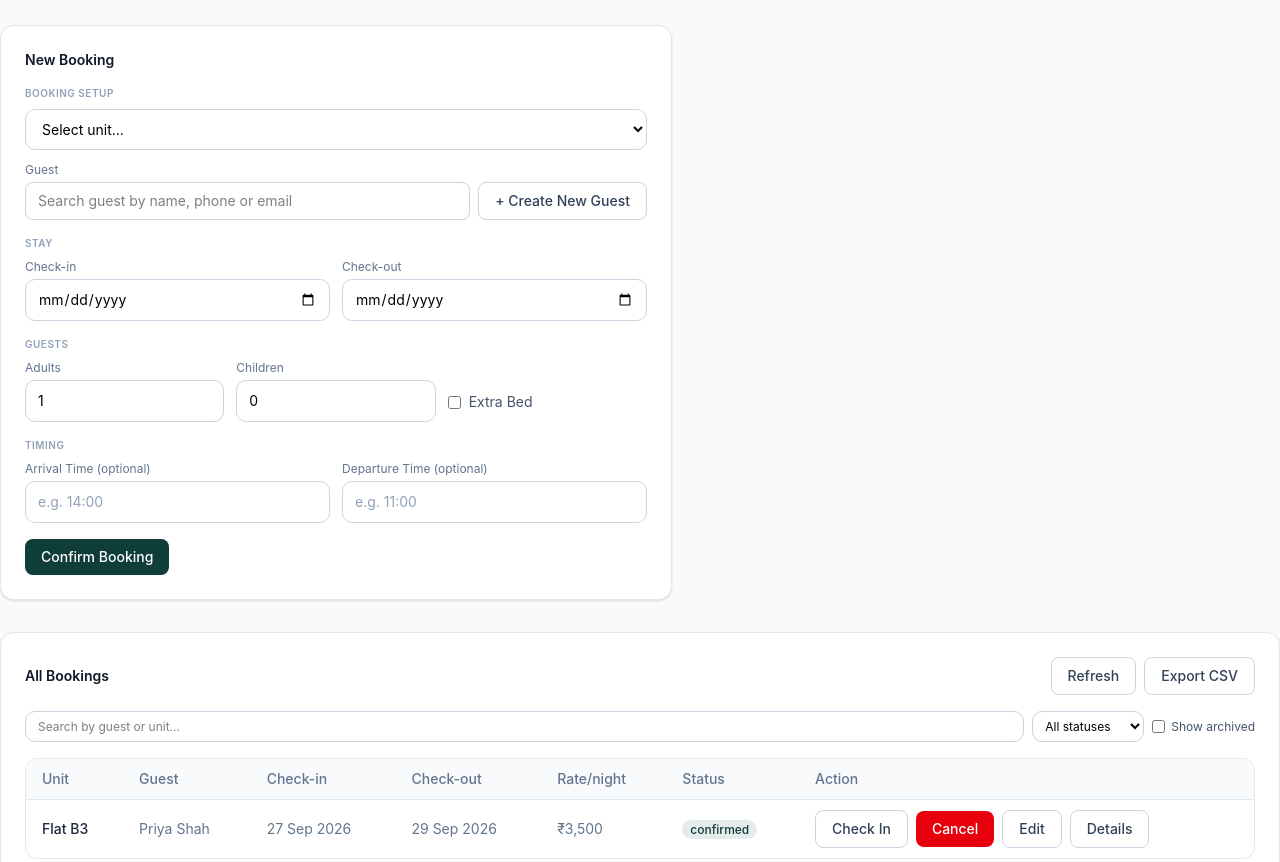
Test: BookingsPage — UI polish › shows a real Payment Summary (Total / Paid / Balance / Payment Status) derived from existing data
Check: the text "Priya Shah" is shown, box [123, 800, 251, 858]
Click the button "Edit": x=1032, y=829 [1002, 810, 1062, 848]
(page scrolled)
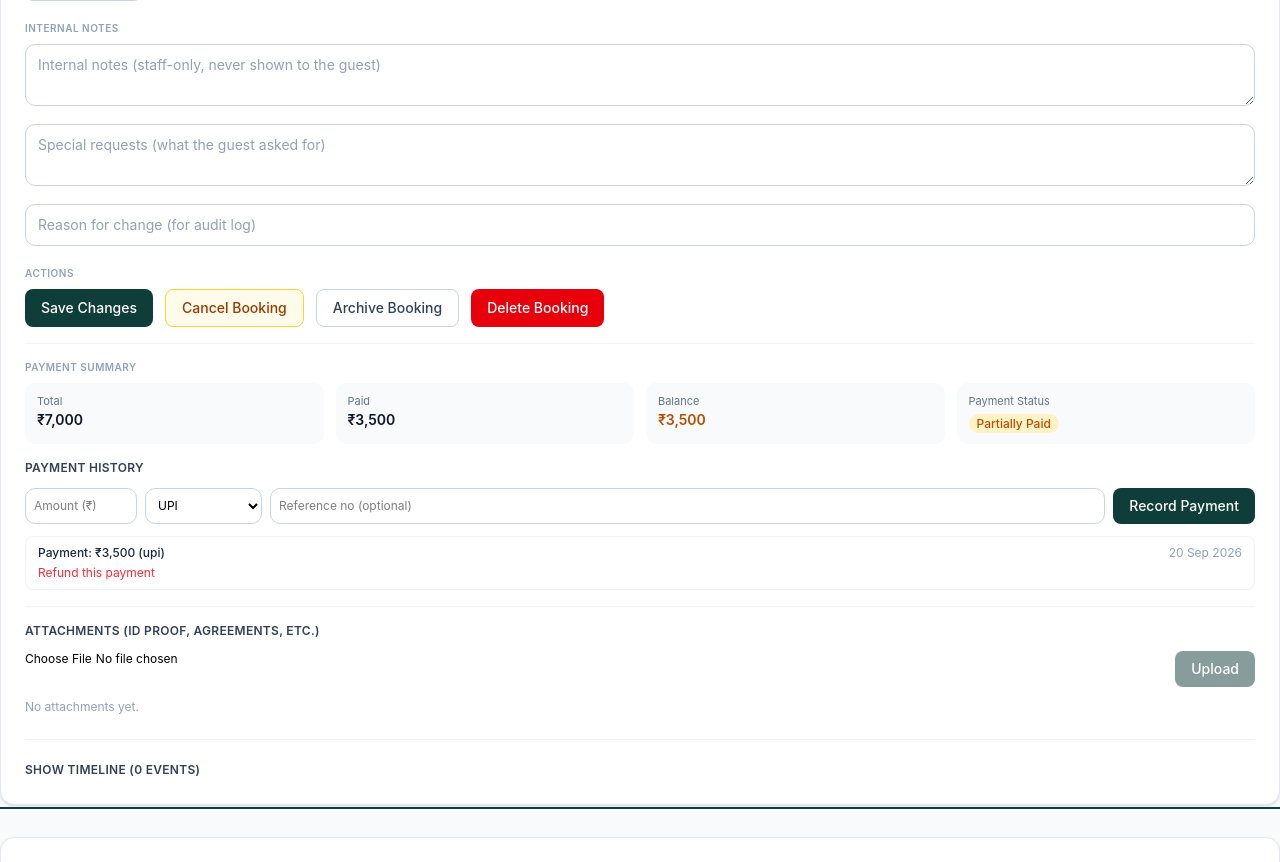
Check: the heading "Payment Summary" is shown, box [25, 361, 137, 373]
Check: the text "₹7,000" is shown, box [37, 410, 83, 428]
Check: the 1st text "₹3,500" is shown, box [348, 410, 395, 428]
